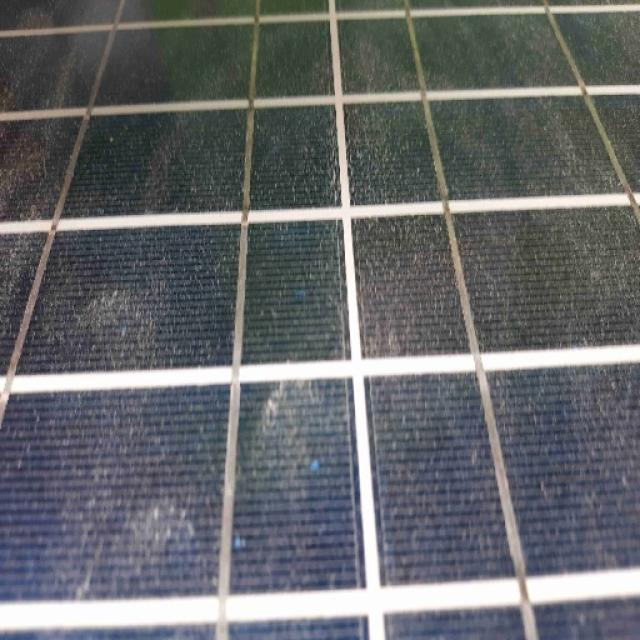Dirty: (26, 0, 640, 635)
